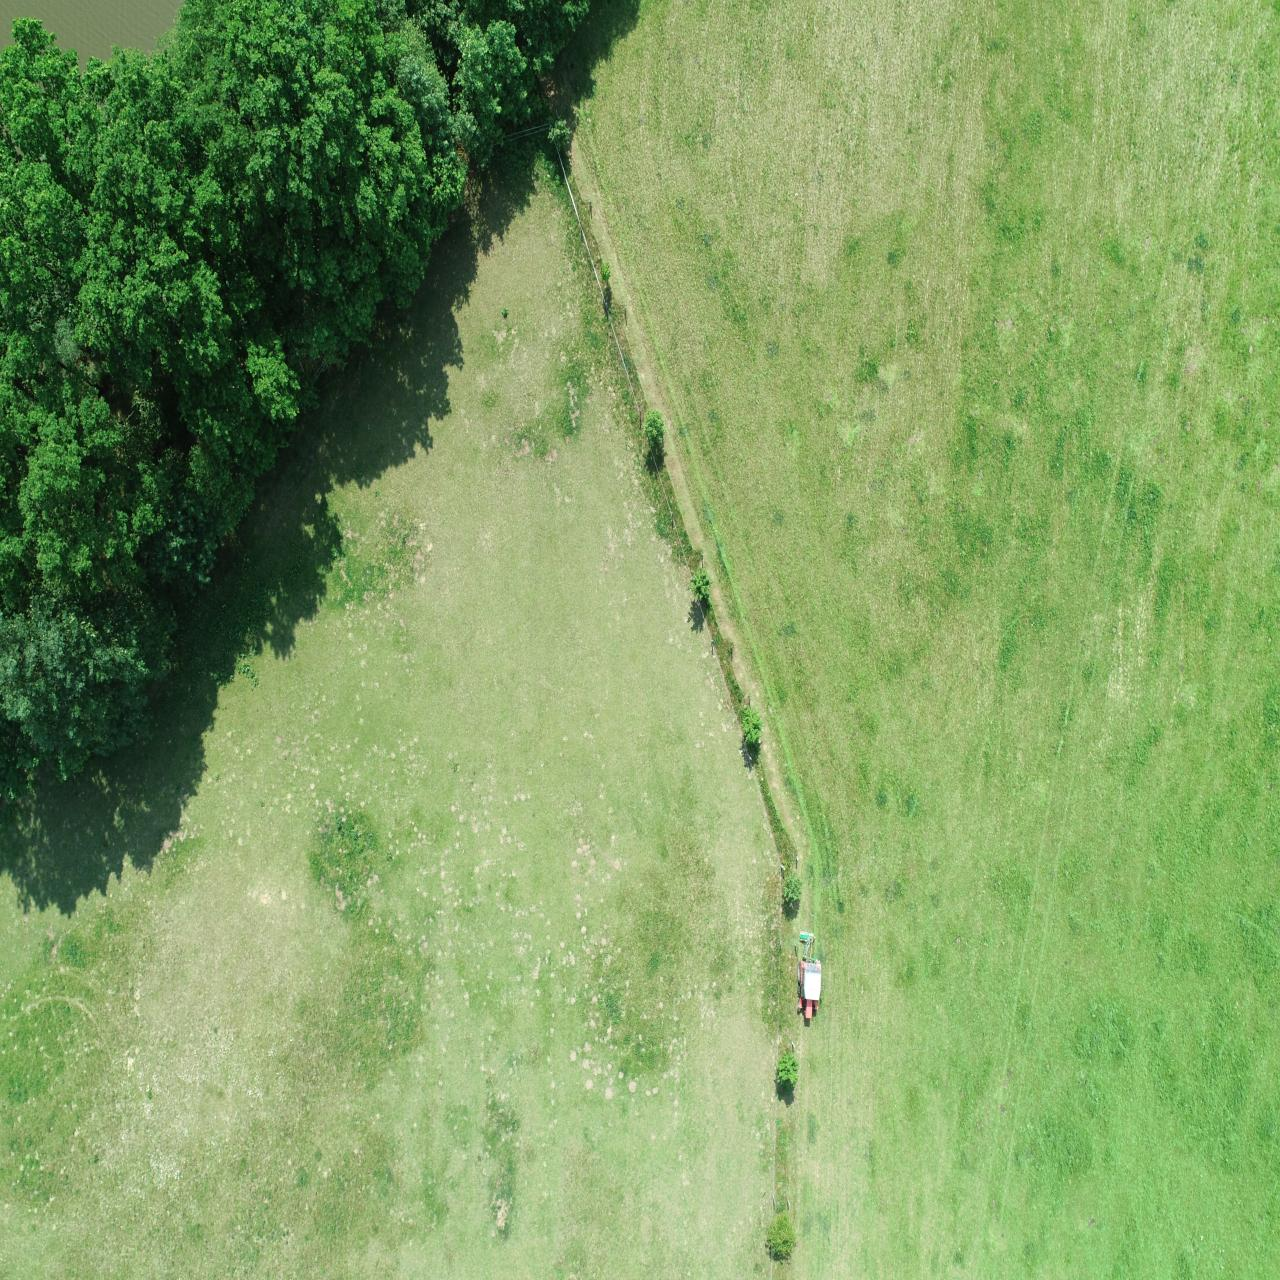cow: (567, 247, 609, 287), (560, 301, 595, 341), (546, 518, 570, 576), (538, 426, 575, 458), (519, 608, 548, 640)
